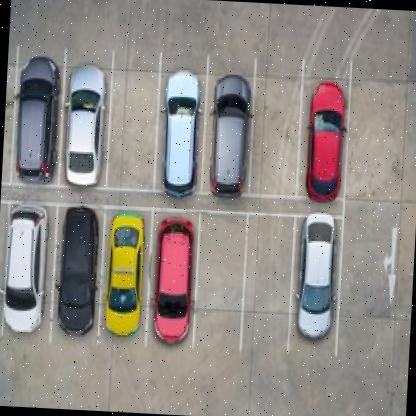Car: (64, 54, 118, 186), (9, 43, 61, 178), (156, 58, 204, 204), (50, 204, 102, 334), (292, 209, 341, 346), (1, 206, 50, 338), (148, 226, 192, 370), (206, 68, 254, 196), (100, 217, 144, 341), (302, 80, 346, 202)
Empty: (242, 218, 296, 344), (252, 65, 303, 196), (194, 217, 242, 352), (106, 60, 154, 186)
